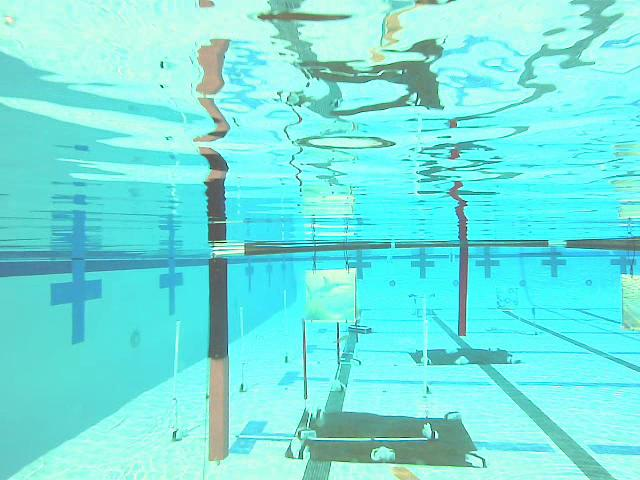black_poster: (302, 319, 307, 399)
divider: (458, 237, 467, 336)
left_gate_poster: (209, 221, 227, 460)
shark: (306, 270, 356, 321)
white_poster: (175, 321, 180, 440), (240, 307, 244, 392), (423, 320, 427, 397)
